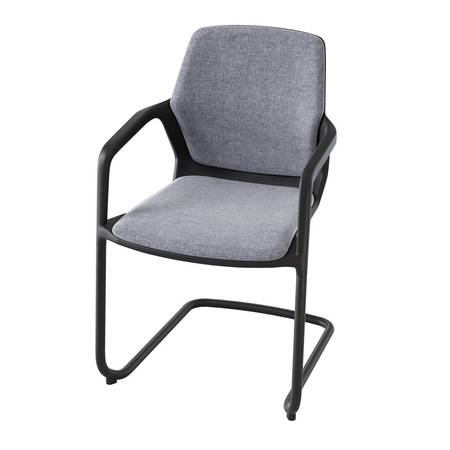chairs: (92, 25, 341, 422)
